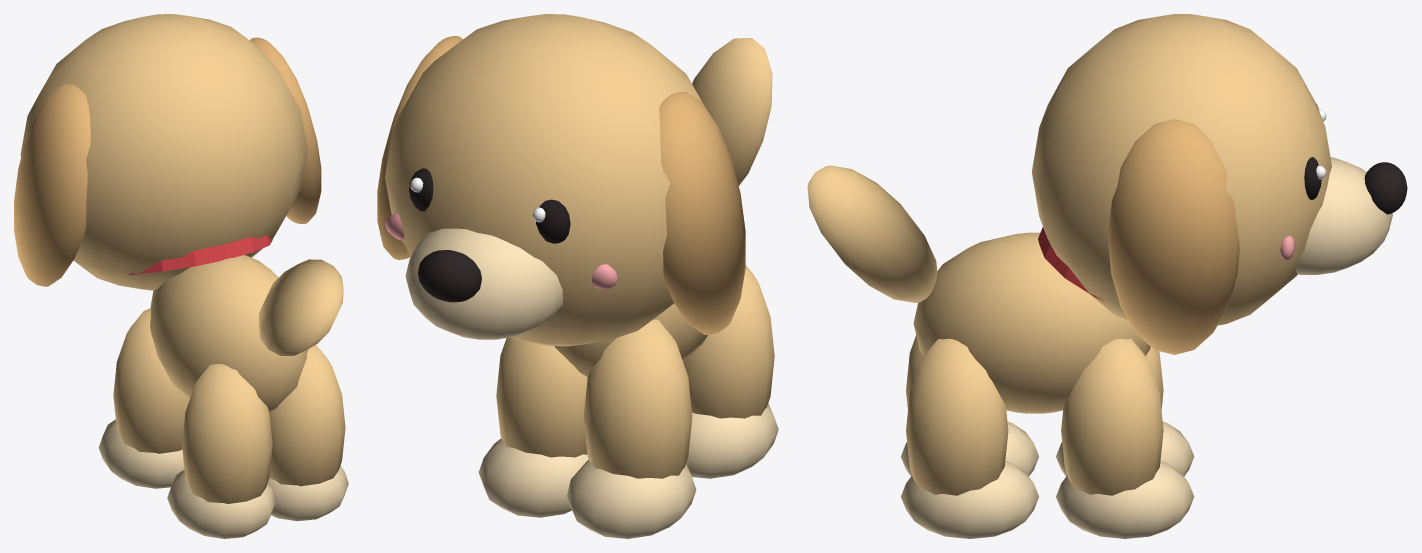
File: dog_luna.glb
The picture shows the model from 3 angles, left to right: view 1: azimuth 30°, elevation 25°; view 2: azimuth 150°, elevation 25°; view 3: azimuth 270°, elevation 25°; orthographic projection. The views are drawn at different scales.
Visible parts, largest first — view 1: Head, Body, EarL, LegBL, LegBR, LegFL, Tail, LegBLPaw, LegFLPaw, EarR, LegBRPaw, Collar; view 2: Head, EarL, LegFL, Snout, LegFR, LegBL, Tail, LegFLPaw, LegFRPaw, LegBLPaw, Nose, EarR (+4 smaller); view 3: Head, EarR, Body, LegBR, LegFR, Tail, Snout, LegBRPaw, LegFRPaw, Nose, LegFLPaw, LegBLPaw (+1 smaller).
Boxes of the visible parts, x1,y1,x2,y2 form: Head: (20, 14, 307, 290); Body: (150, 255, 308, 411); EarL: (14, 84, 90, 286); LegBL: (182, 364, 272, 503); LegBR: (269, 345, 345, 486); LegFL: (113, 308, 189, 453); Tail: (258, 259, 343, 355); LegBLPaw: (167, 469, 274, 538); LegFLPaw: (98, 419, 184, 488); EarR: (249, 37, 321, 223); LegBRPaw: (267, 466, 348, 521); Collar: (128, 235, 272, 274); Head: (385, 14, 704, 346); EarL: (659, 91, 745, 334); LegFL: (583, 319, 692, 478); Snout: (405, 228, 562, 339); LegFR: (496, 337, 587, 457); LegBL: (683, 265, 774, 418); Tail: (692, 38, 772, 185); LegFLPaw: (567, 459, 696, 538); LegFRPaw: (478, 438, 588, 517); LegBLPaw: (686, 403, 778, 478); Nose: (418, 250, 481, 302); EarR: (377, 36, 462, 259); Head: (1032, 14, 1331, 325); EarR: (1108, 119, 1239, 354); Body: (913, 232, 1150, 413); LegBR: (906, 338, 1008, 495); LegFR: (1061, 338, 1163, 495); Tail: (807, 165, 937, 302); Snout: (1295, 157, 1392, 274); LegBRPaw: (901, 461, 1038, 538); LegFRPaw: (1056, 461, 1194, 538); Nose: (1364, 162, 1407, 214); LegFLPaw: (1056, 421, 1194, 476); LegBLPaw: (901, 421, 1038, 476).
Bounding box in the file's own units: 0.7156 × 1.03 × 1.16.
